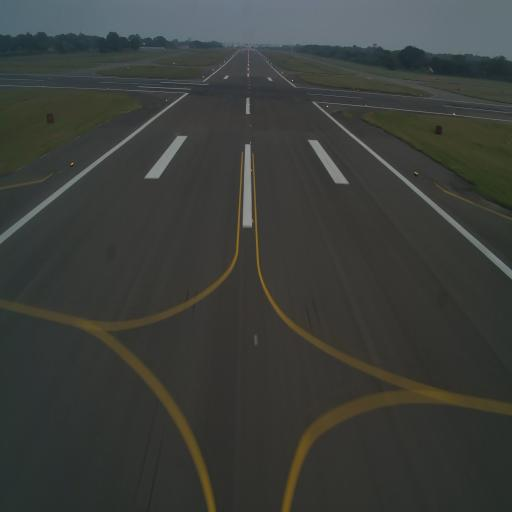on: (250, 327, 260, 348), (412, 167, 420, 180), (68, 158, 74, 170), (249, 216, 256, 226), (248, 138, 254, 148), (164, 96, 170, 104), (250, 165, 254, 175), (325, 103, 329, 110), (249, 122, 252, 130)
